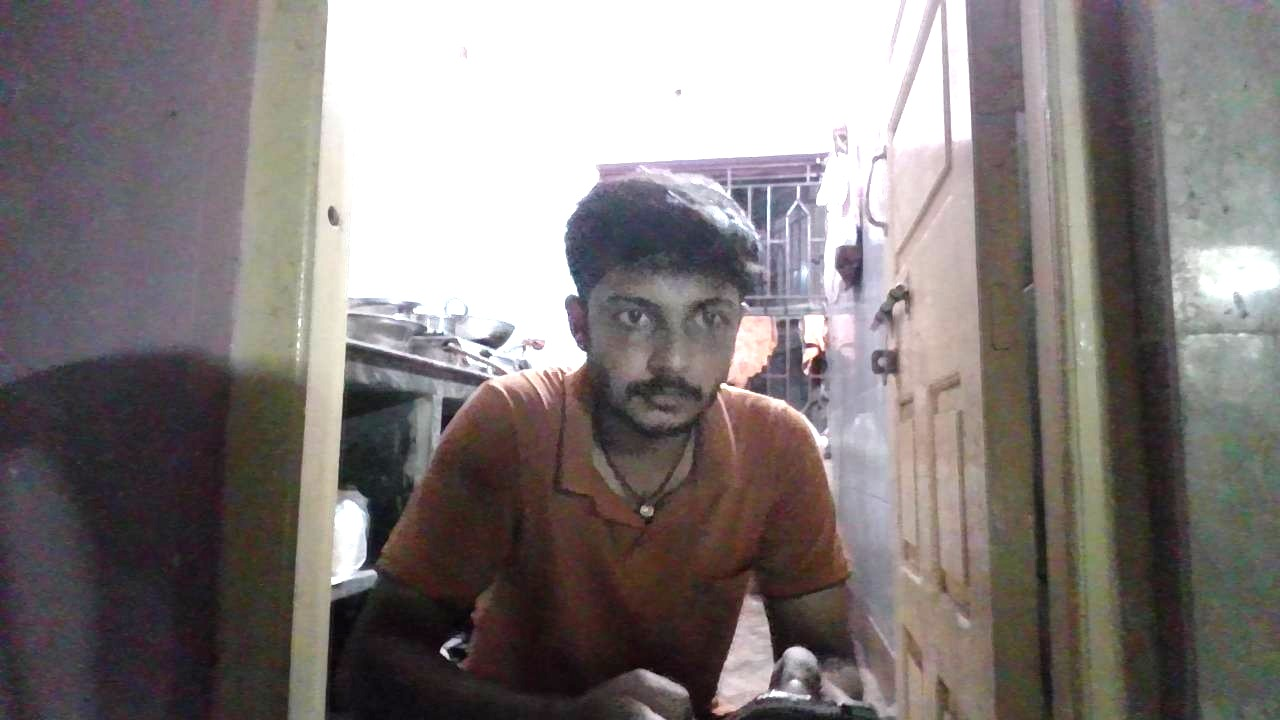red_box: (659, 406, 847, 582), (571, 455, 644, 527)
